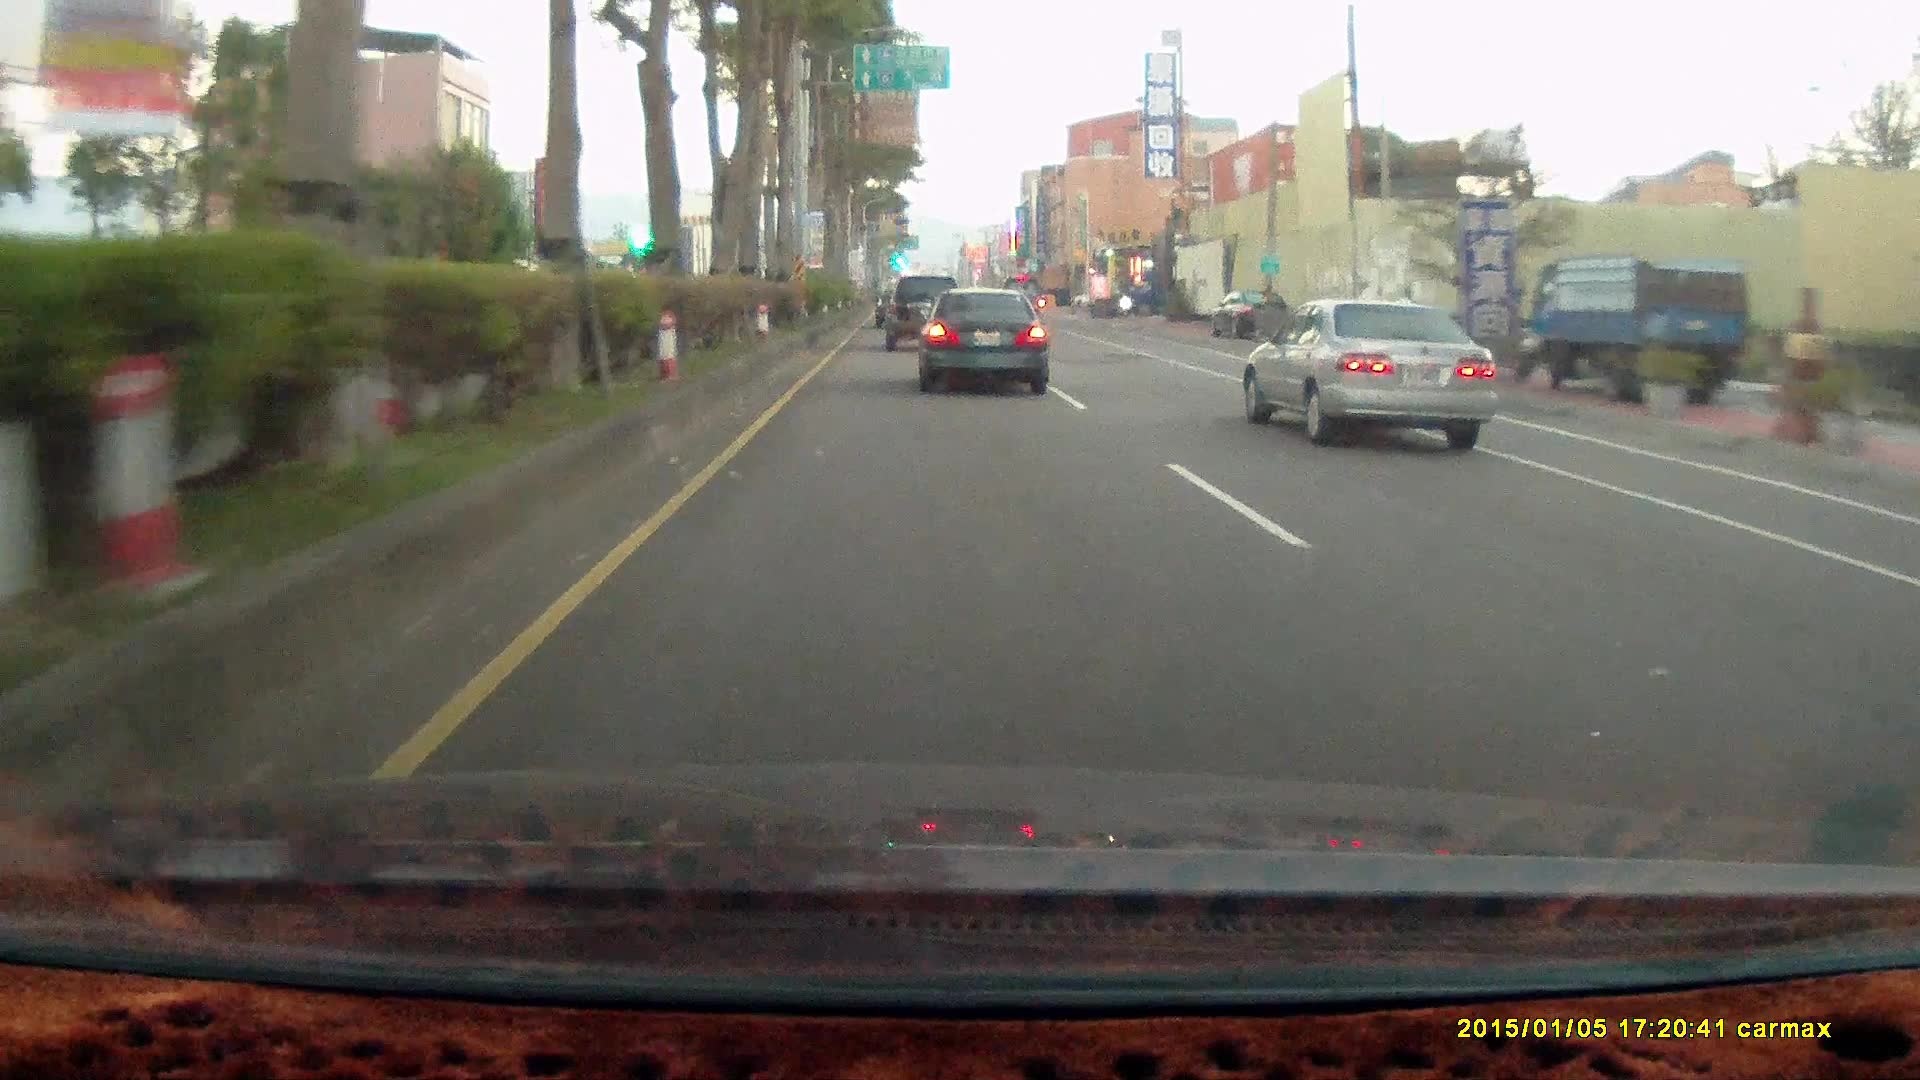vehicle: (1247, 299, 1511, 455), (1240, 297, 1498, 452), (1520, 251, 1756, 410), (1528, 252, 1750, 405), (914, 285, 1048, 392), (918, 290, 1051, 396), (884, 273, 964, 351), (1211, 291, 1295, 344), (1117, 270, 1191, 316)
